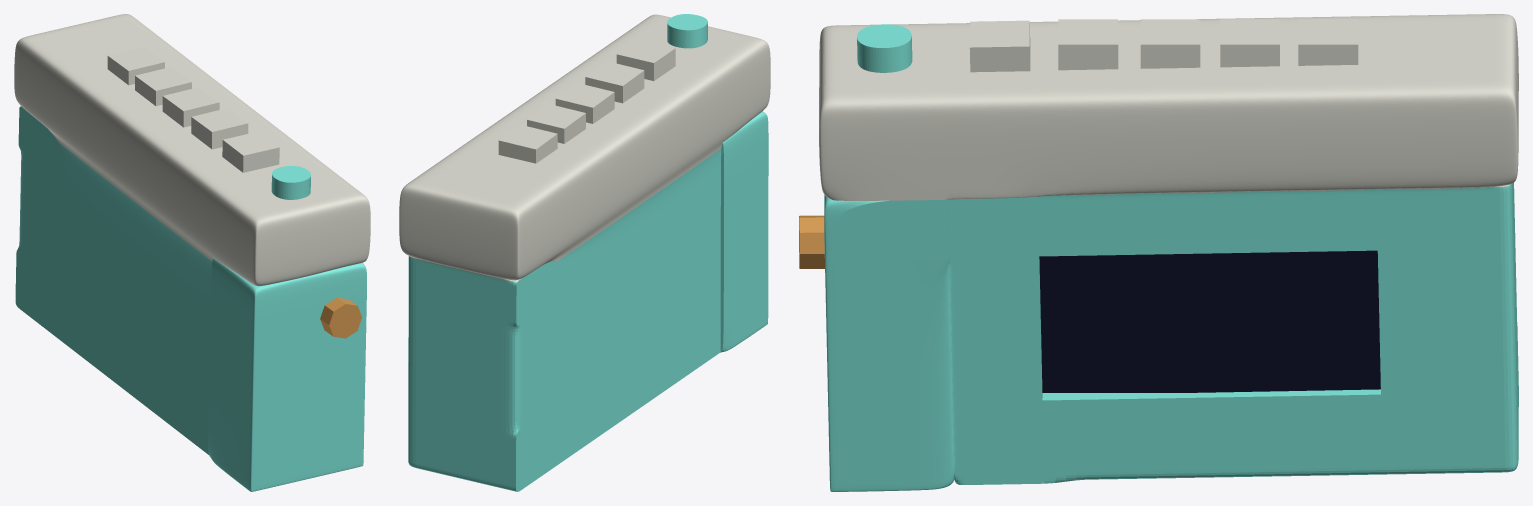
File: cuerpo_Collection.fbx
3 renders of one model, left to right at view 1: azimuth 30°, elevation 25°; view 2: azimuth 150°, elevation 25°; view 3: azimuth 270°, elevation 25°, orthographic. The views are drawn at different scales.
Visible parts, largest first — view 1: cuerpo, menos, atras, play, adelante, mas, modo, power; view 2: cuerpo, mas, menos, atras, play, adelante, power; view 3: cuerpo, pantalla, atras, menos, play, adelante, mas, power, modo.
Part boxes in pixels (x1,y1,x2,y2): cuerpo: (14,14,370,491); menos: (222,131,279,172); atras: (191,108,248,149); play: (162,87,219,127); adelante: (135,67,191,106); mas: (107,47,164,85); modo: (320,297,361,338); power: (271,166,310,199); cuerpo: (399,14,770,491); mas: (498,124,557,163); menos: (616,39,675,80); atras: (585,61,644,103); play: (555,83,614,123); adelante: (527,104,585,143); power: (667,14,707,48); cuerpo: (819,14,1518,491); pantalla: (1039,250,1380,392); atras: (1058,19,1118,70); menos: (969,20,1030,72); play: (1140,19,1200,68); adelante: (1220,19,1279,67); mas: (1298,19,1358,65); power: (857,24,912,72); modo: (799,215,824,268).
Bounding box in the file's own units: 152 × 362 × 560.
